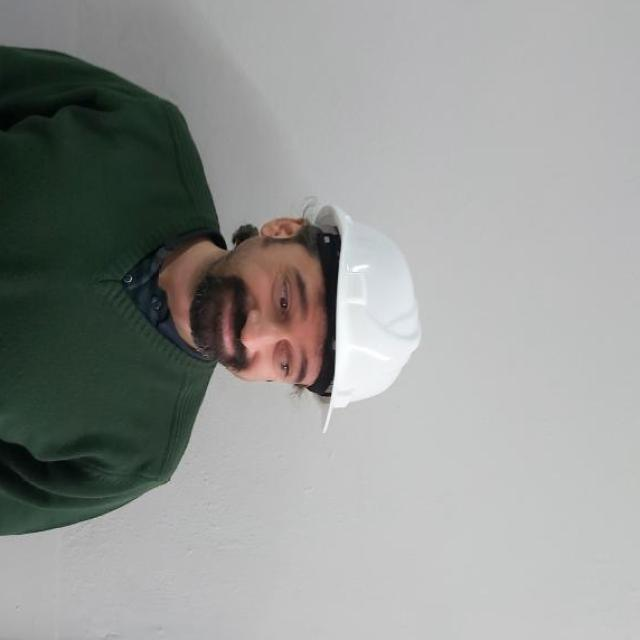helmet: (302, 199, 423, 433)
